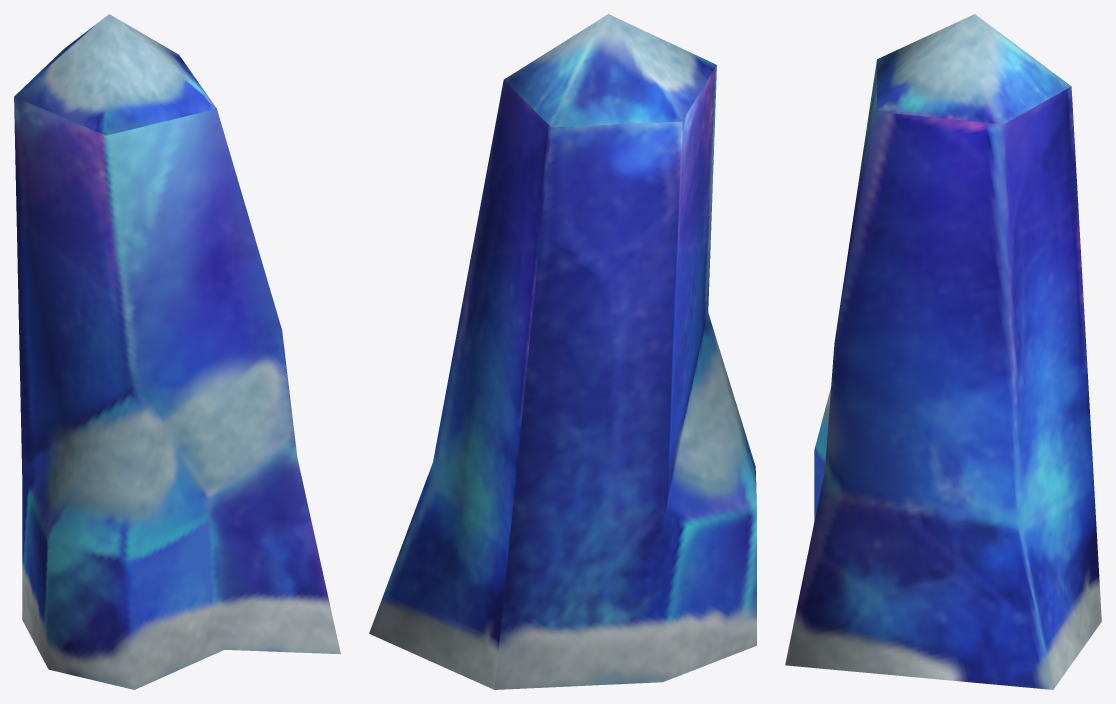
The model's file is xs_jinsh2.FBX.
The picture shows the model from 3 angles, left to right: view 1: azimuth 30°, elevation 25°; view 2: azimuth 150°, elevation 25°; view 3: azimuth 270°, elevation 25°; orthographic projection. The views are drawn at different scales.
Parts seen in each view (by area): view 1: xs_jingshi_02; view 2: xs_jingshi_02; view 3: xs_jingshi_02.
Boxes of the visible parts, x1=… form: xs_jingshi_02: x1=14, y1=14, x2=340, y2=689; xs_jingshi_02: x1=369, y1=14, x2=756, y2=689; xs_jingshi_02: x1=785, y1=14, x2=1101, y2=689.
Size of the model in its own units: 66.86 by 134 by 65.55.
